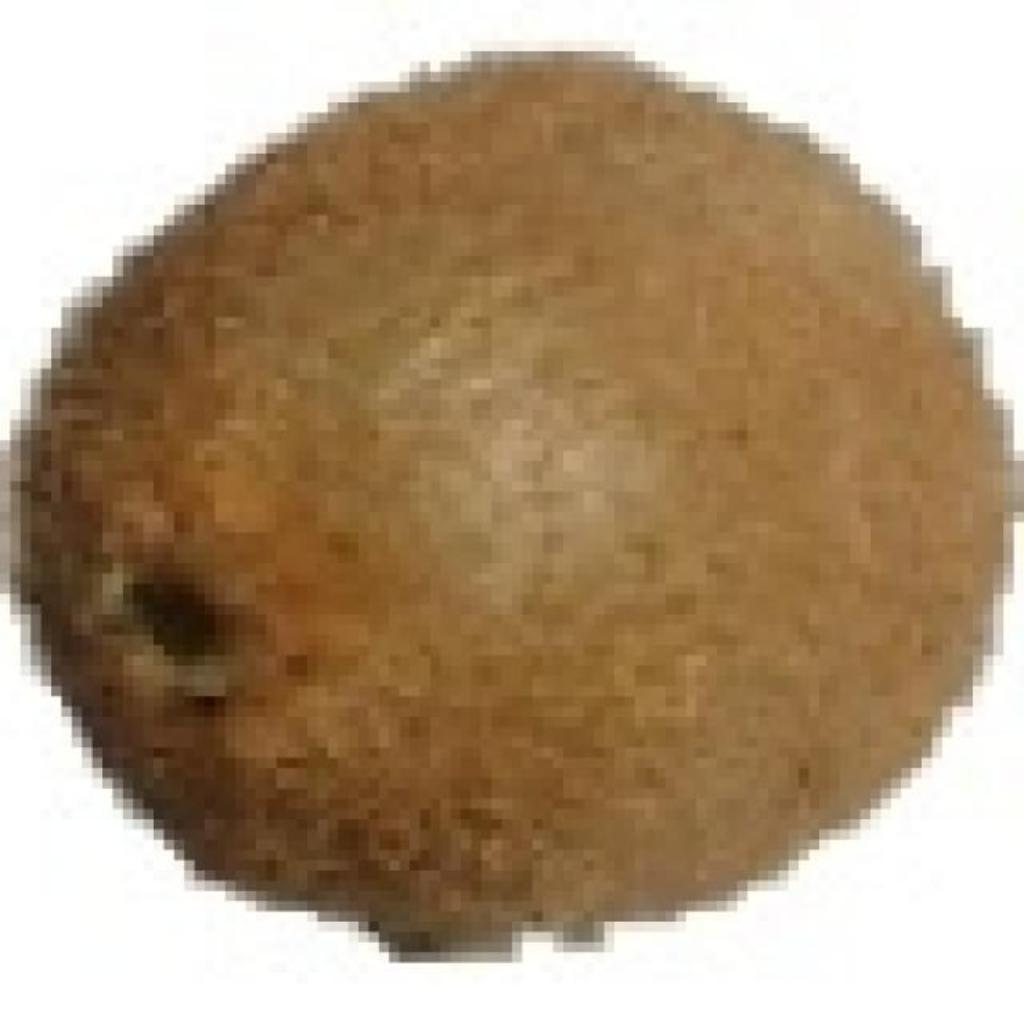kiwi: (41, 41, 1014, 932)
